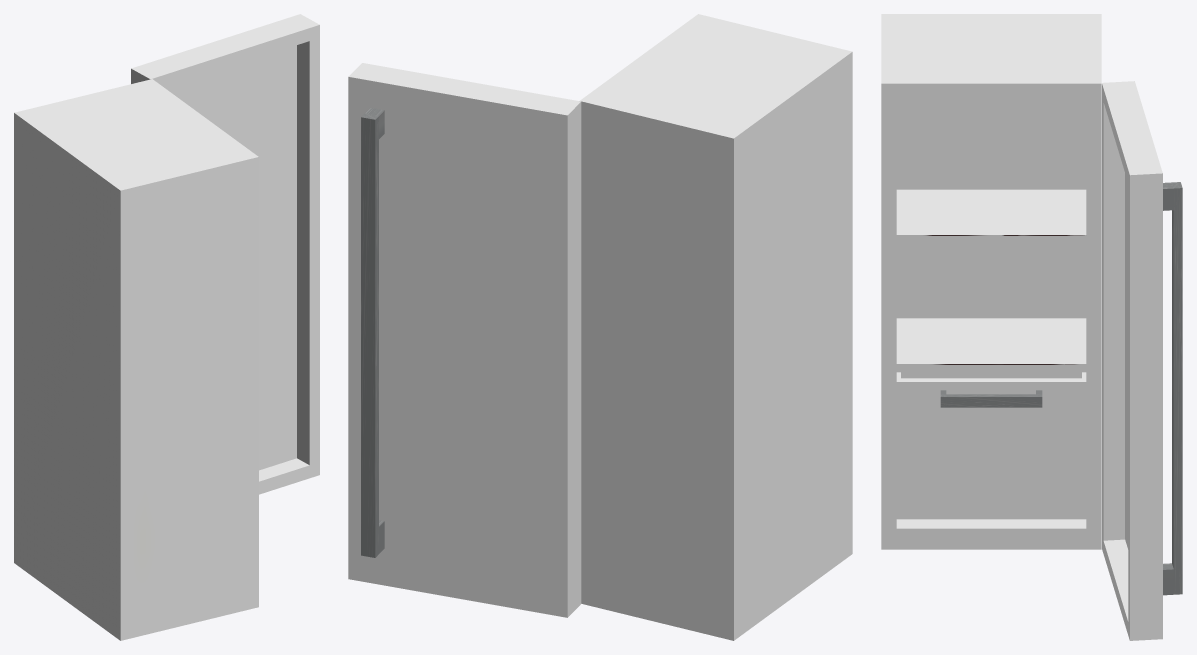
Rendered from fridge.fbx.
The picture shows the model from 3 angles, left to right: view 1: azimuth 30°, elevation 25°; view 2: azimuth 150°, elevation 25°; view 3: azimuth 270°, elevation 25°; orthographic projection. The views are drawn at different scales.
Parts seen in each view (by area): view 1: pCube10, pCube9; view 2: pCube10, pCube9; view 3: pCube10, pCube9.
Part boxes in pixels (x1=…): pCube10: x1=14, y1=79, x2=258, y2=640; pCube9: x1=131, y1=14, x2=319, y2=494; pCube10: x1=580, y1=14, x2=852, y2=640; pCube9: x1=348, y1=63, x2=581, y2=617; pCube10: x1=881, y1=14, x2=1101, y2=549; pCube9: x1=1102, y1=81, x2=1182, y2=640.
Size of the model in its own units: 10.39 by 14 by 8.21.
1 material, 1 textured.
